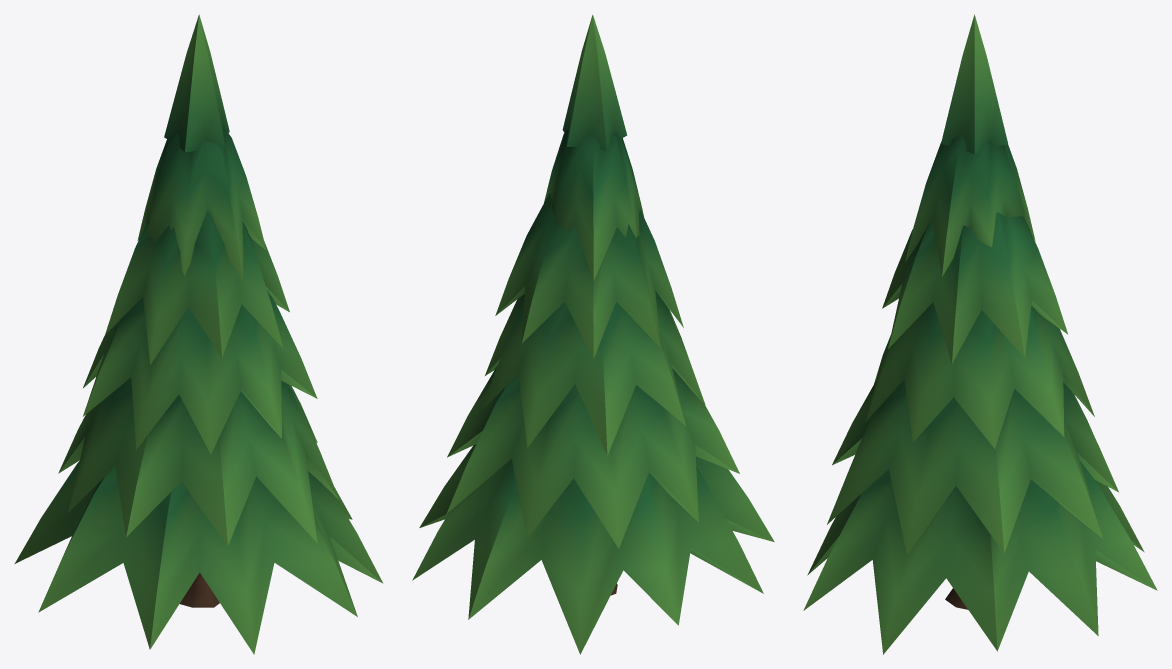
Rendered from alpine_pine.glb.
3 renders of one model, left to right at view 1: azimuth 30°, elevation 25°; view 2: azimuth 150°, elevation 25°; view 3: azimuth 270°, elevation 25°, orthographic. The views are drawn at different scales.
Visible parts, largest first — view 1: alpine_pine; view 2: alpine_pine; view 3: alpine_pine.
Part boxes in pixels (x1,y1,x2,y2): alpine_pine: (14, 14, 383, 654); alpine_pine: (412, 14, 774, 654); alpine_pine: (803, 14, 1157, 654).
Size of the model in its own units: 4.18 by 7 by 3.84.
